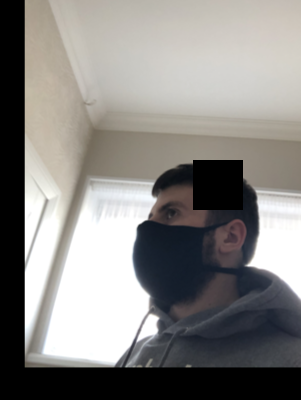with_mask: (132, 198, 210, 303)
